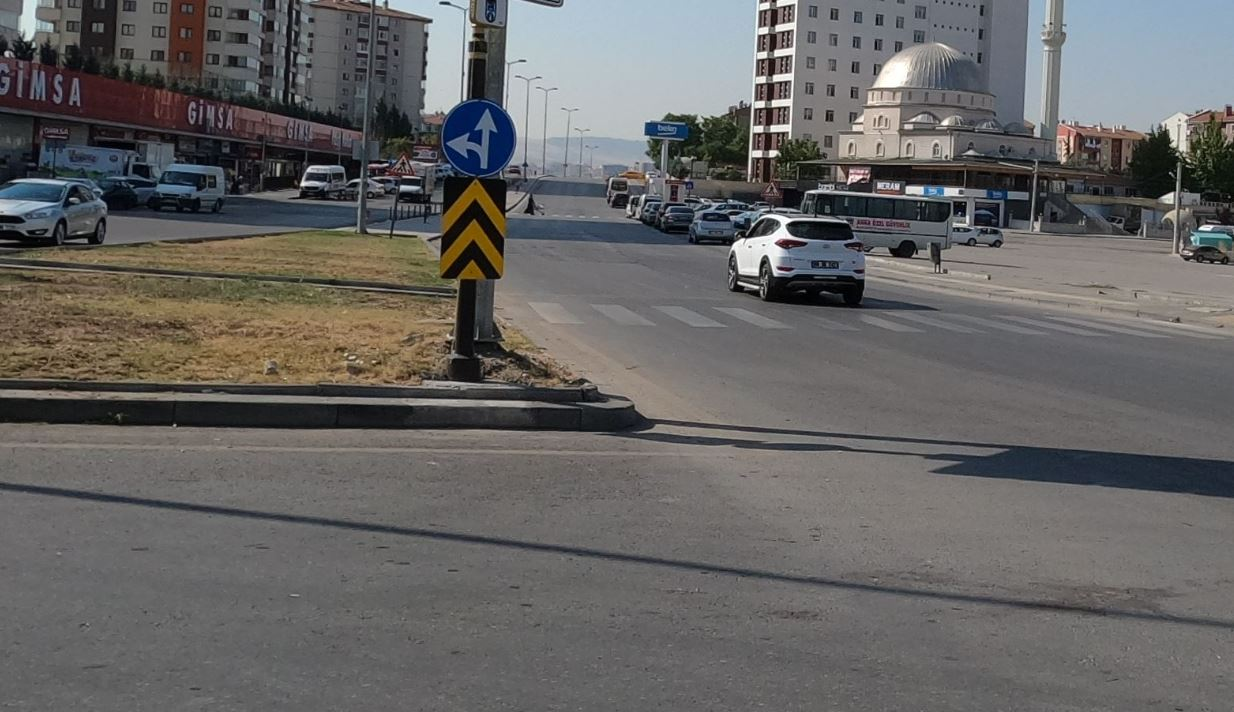ileri ve Sola Mecburi Don: (439, 89, 522, 179)
